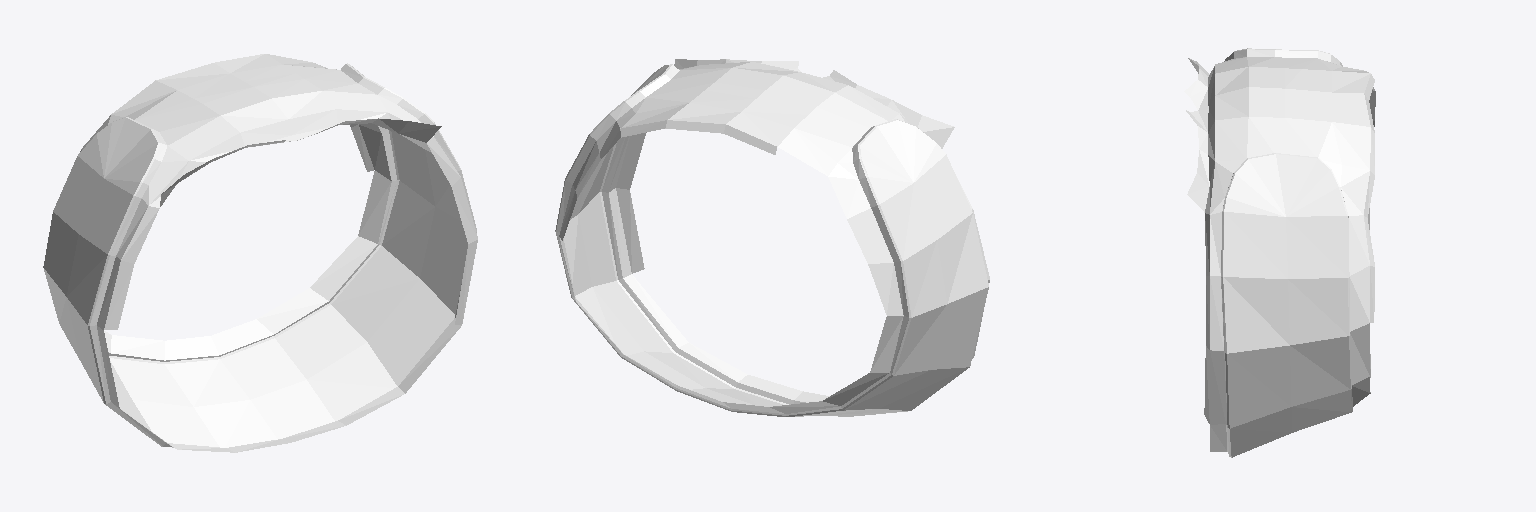
File: mdl2f.obj
The picture shows the model from 3 angles: view 1: azimuth 30°, elevation 25°; view 2: azimuth 150°, elevation 25°; view 3: azimuth 270°, elevation 25°; orthographic projection.
Parts seen in each view (by area): view 1: mdl2.001; view 2: mdl2.001; view 3: mdl2.001.
Boxes of the visible parts, <box> form: mdl2.001: <box>43,54,477,452</box>; mdl2.001: <box>555,59,989,416</box>; mdl2.001: <box>1184,48,1375,457</box>.
Bounding box in the file's own units: 27.99 × 23.21 × 11.94.